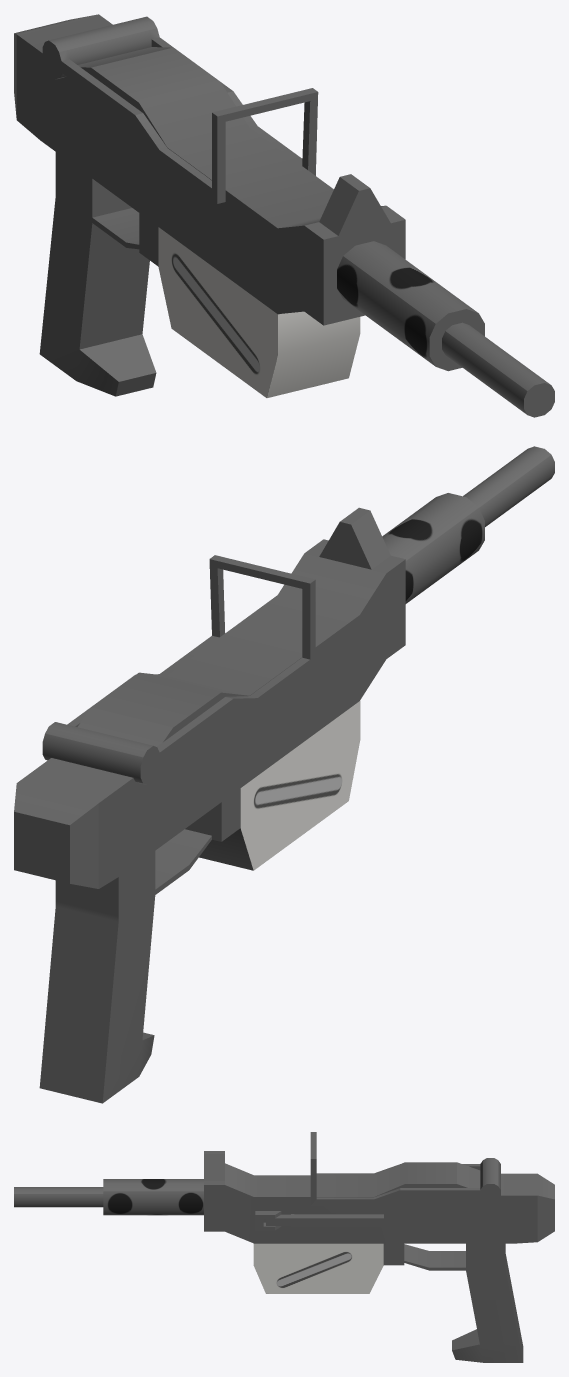
File: 100mmMachingun.fbx
3 views of the same model, one above another, from view 1: azimuth 30°, elevation 25°; view 2: azimuth 150°, elevation 25°; view 3: azimuth 270°, elevation 25° (orthographic). The views are drawn at different scales.
Parts seen in each view (by area): view 1: pCube7; view 2: pCube7; view 3: pCube7.
Boxes of the visible parts, x1,y1,x2,y2 form: pCube7: (14,14,554,417); pCube7: (14,446,554,1103); pCube7: (14,1132,554,1362).
Bounding box in the file's own units: 24.42 × 84.74 × 198.
1 material, 1 textured.
